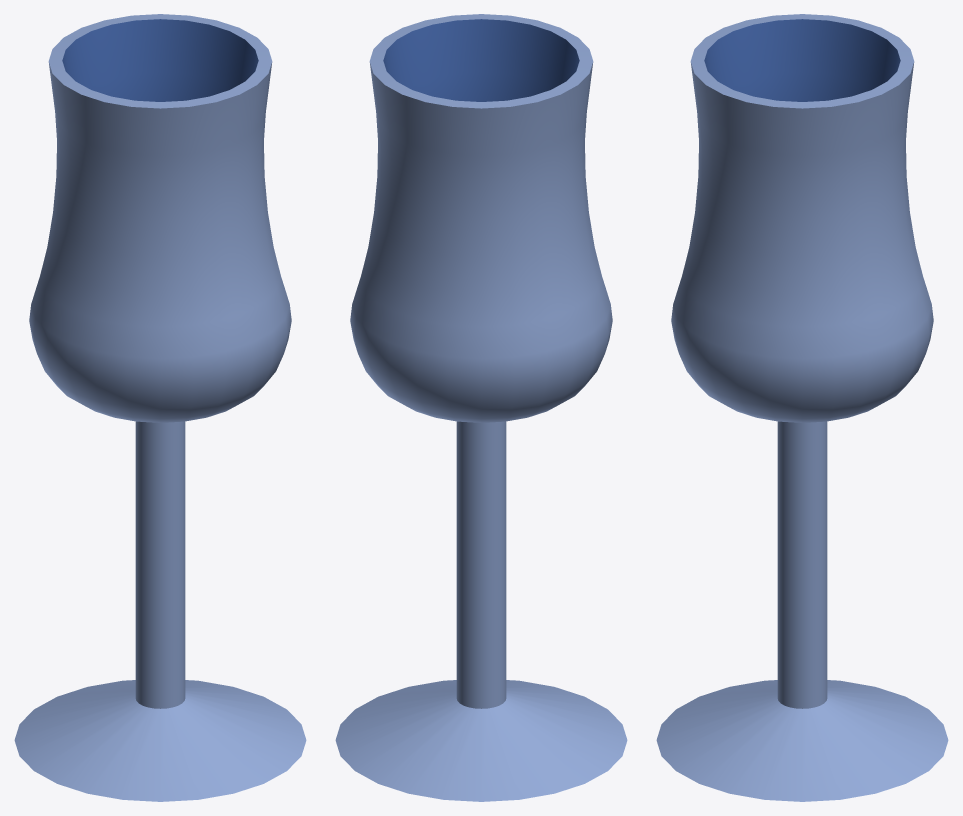
Rendered from Wineglass B.fbx.
3 renders of one model, left to right at view 1: azimuth 30°, elevation 25°; view 2: azimuth 150°, elevation 25°; view 3: azimuth 270°, elevation 25°, orthographic.
Parts seen in each view (by area): view 1: Wineglass.002; view 2: Wineglass.002; view 3: Wineglass.002.
Boxes of the visible parts, x1,y1,x2,y2 form: Wineglass.002: (14, 14, 306, 801); Wineglass.002: (335, 14, 627, 801); Wineglass.002: (656, 14, 948, 801).
Size of the model in its own units: 0.1797 by 0.4614 by 0.1797.
